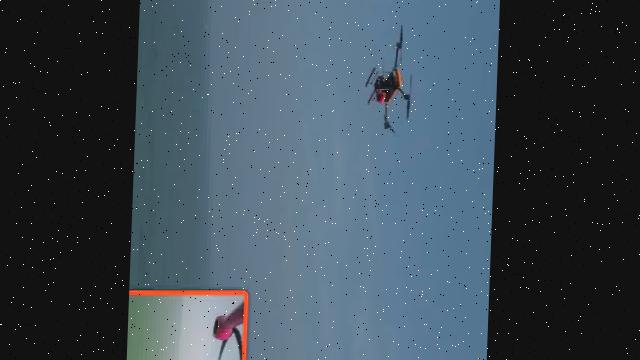drone: (353, 26, 425, 128)
